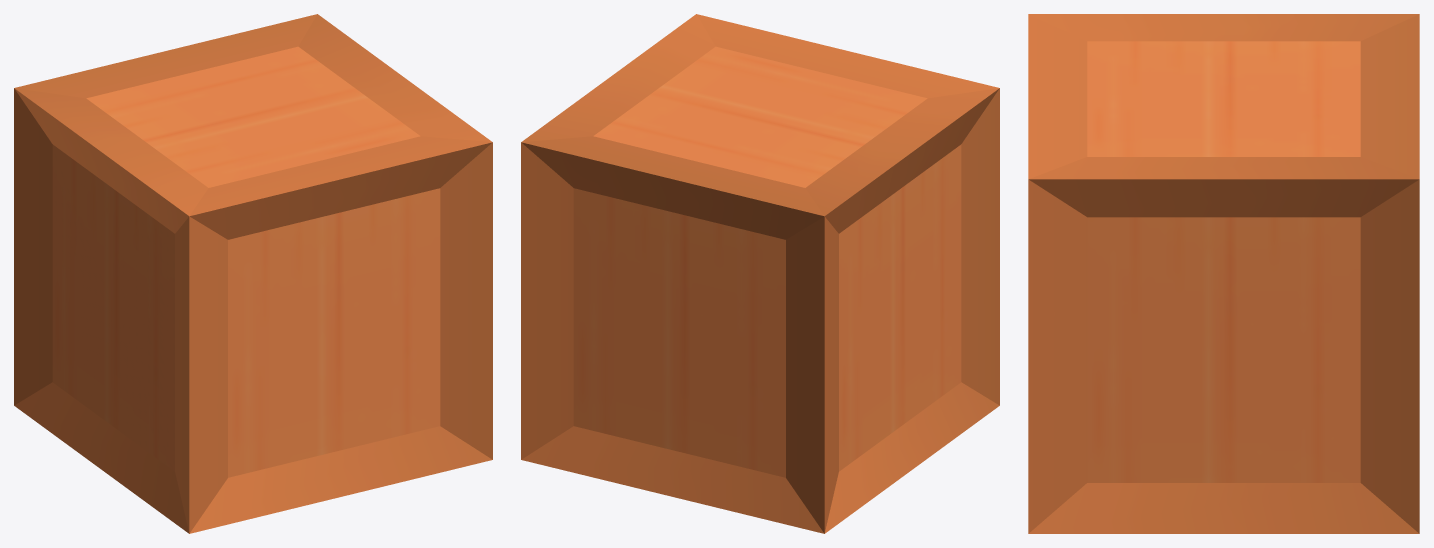
File: WoodBox.fbx
3 views of the same model, side by side, from view 1: azimuth 30°, elevation 25°; view 2: azimuth 150°, elevation 25°; view 3: azimuth 270°, elevation 25° (orthographic). The views are drawn at different scales.
Visible parts, largest first — view 1: WoodBox; view 2: WoodBox; view 3: WoodBox.
Part boxes in pixels (x1,y1,x2,y2): WoodBox: (14, 14, 492, 533); WoodBox: (521, 14, 999, 533); WoodBox: (1028, 14, 1419, 533).
Size of the model in its own units: 50 by 50 by 50.
